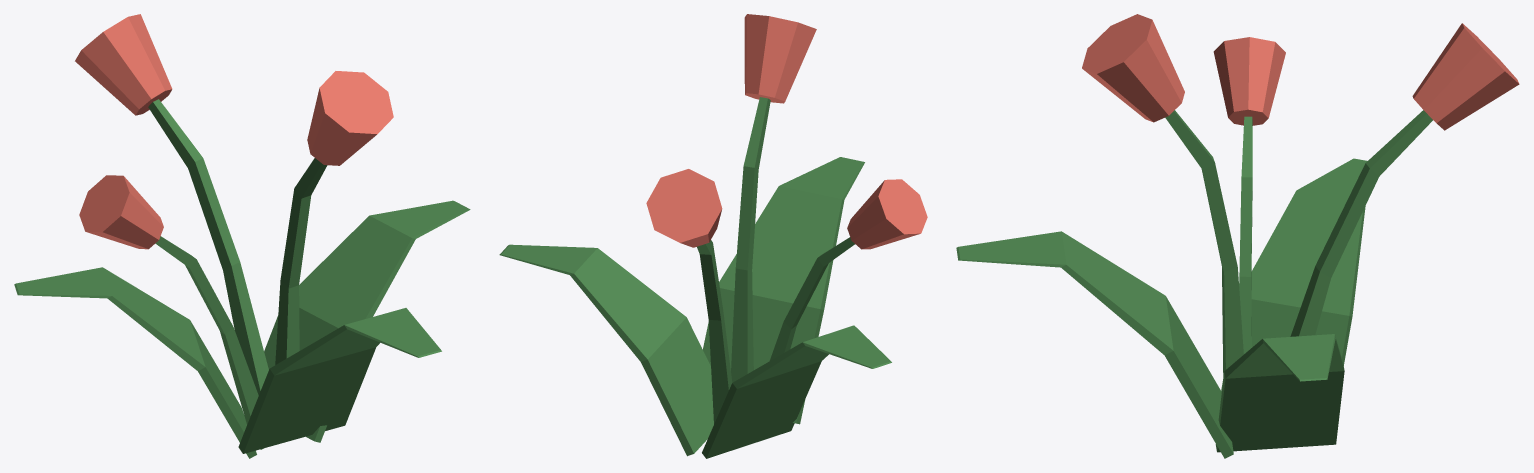
File: 红色花.fbx
3 views of the same model, side by side, from view 1: azimuth 30°, elevation 25°; view 2: azimuth 150°, elevation 25°; view 3: azimuth 270°, elevation 25° (orthographic). The views are drawn at different scales.
Parts seen in each view (by area): view 1: Flower1.001; view 2: Flower1.001; view 3: Flower1.001.
Boxes of the visible parts, box(x1,y1,x2,y2) form: Flower1.001: box(14, 14, 470, 458); Flower1.001: box(499, 14, 927, 458); Flower1.001: box(956, 14, 1519, 458).
Bounding box in the file's own units: 105 × 93.55 × 112.
